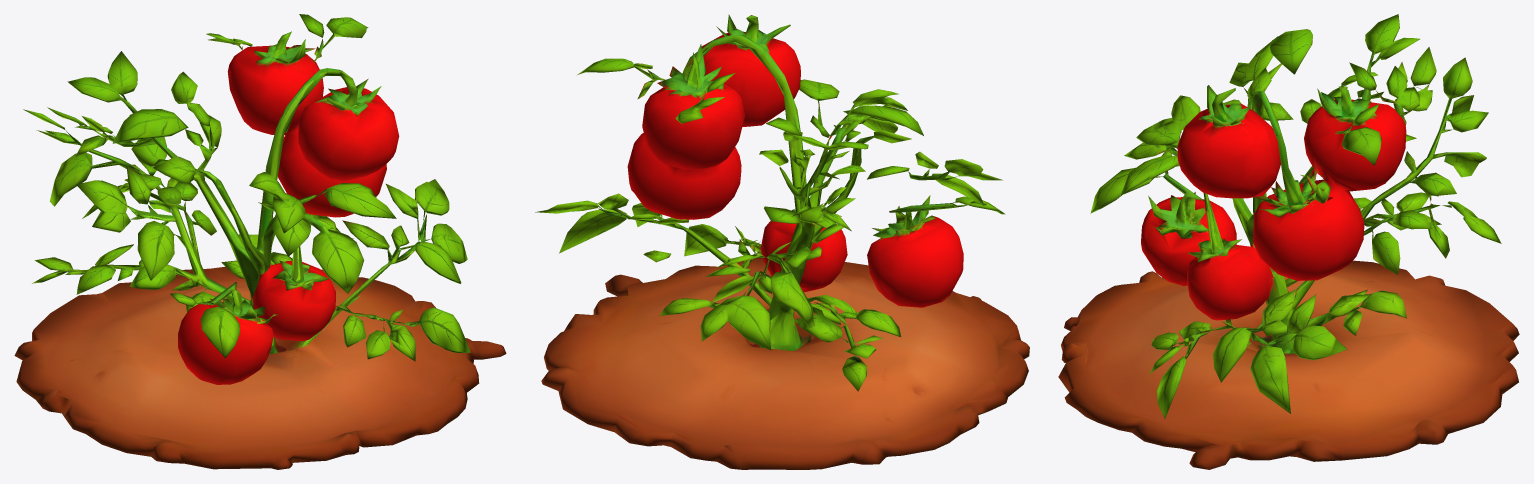
Rendered from tomato.glb.
3 renders of one model, left to right at view 1: azimuth 30°, elevation 25°; view 2: azimuth 150°, elevation 25°; view 3: azimuth 270°, elevation 25°, orthographic. The views are drawn at different scales.
Bounding box in the file's own units: 1.91 × 1.35 × 1.81.
1 material, 1 textured.
